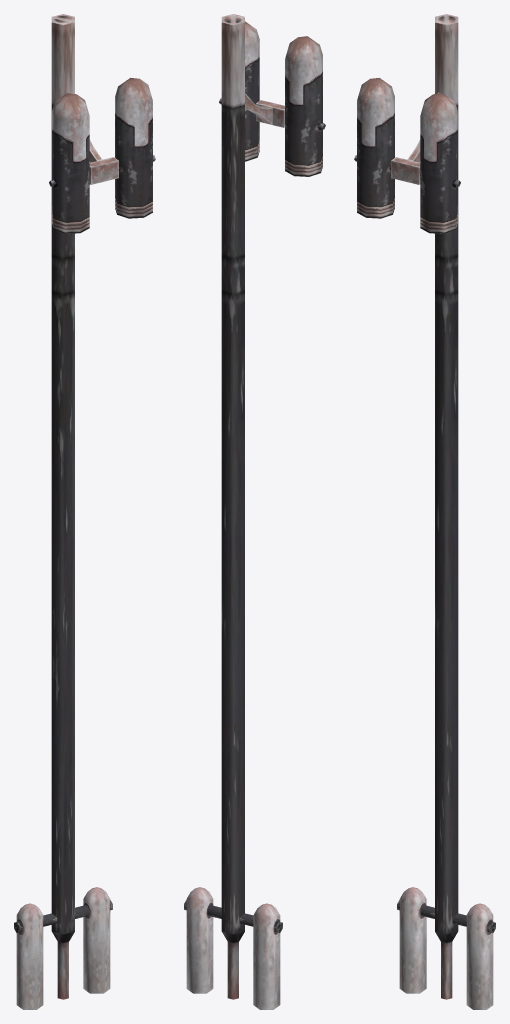
The model's file is mun_all_imprv_streetlamp_lg_s01_l0.fbx.
The picture shows the model from 3 angles, left to right: view 1: azimuth 30°, elevation 25°; view 2: azimuth 150°, elevation 25°; view 3: azimuth 330°, elevation 25°; orthographic projection.
Visible parts, largest first — view 1: mesh_node; view 2: mesh_node; view 3: mesh_node.
Part boxes in pixels (x1,y1,x2,y2): mesh_node: [14, 14, 155, 1009]; mesh_node: [184, 14, 325, 1009]; mesh_node: [354, 14, 495, 1009].
Size of the model in its own units: 0.4464 by 4.02 by 0.4135.
2 materials, 2 textured.
